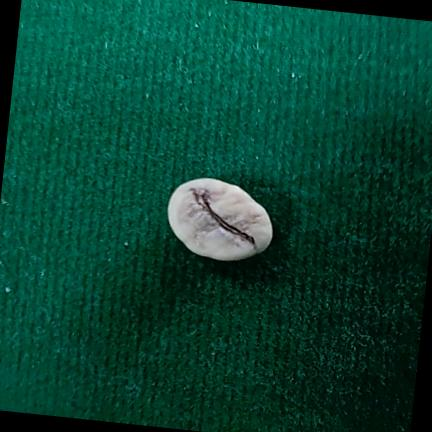husk: (168, 178, 273, 261)
